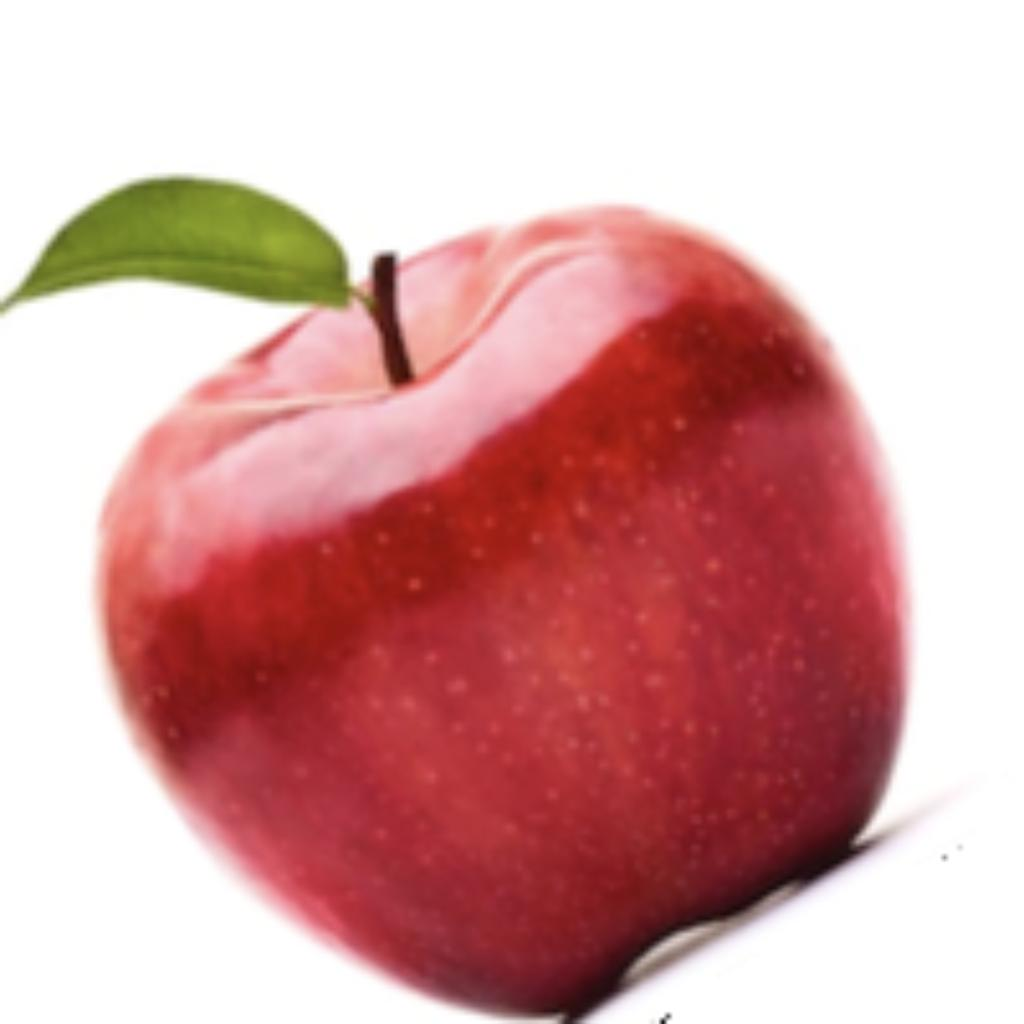apple: (0, 169, 968, 1019)
